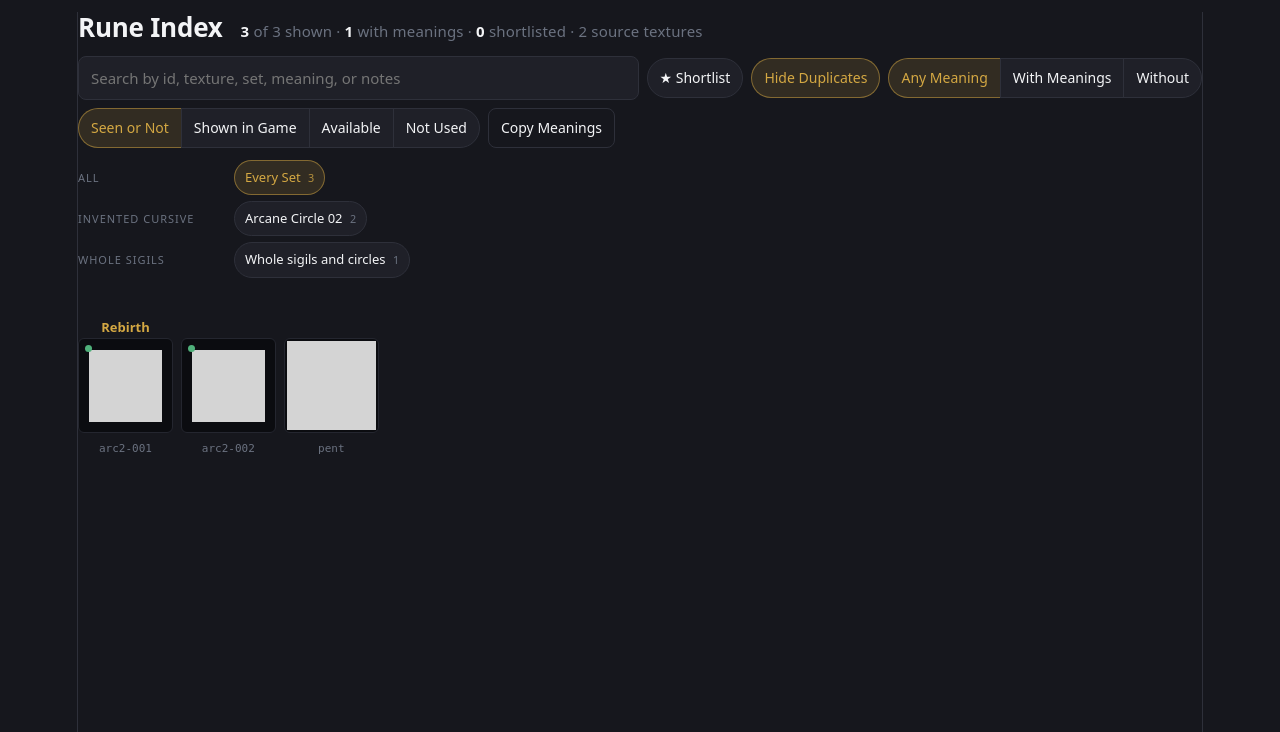
Test: RuneIndexPage › filters by meaning and by whether players can have seen it
expect the button with aria-label "Rune arc2-001, Rebirth" is shown: met, box [78, 319, 173, 462]
Click the button "Without": [1163, 78] box [1124, 58, 1202, 98]
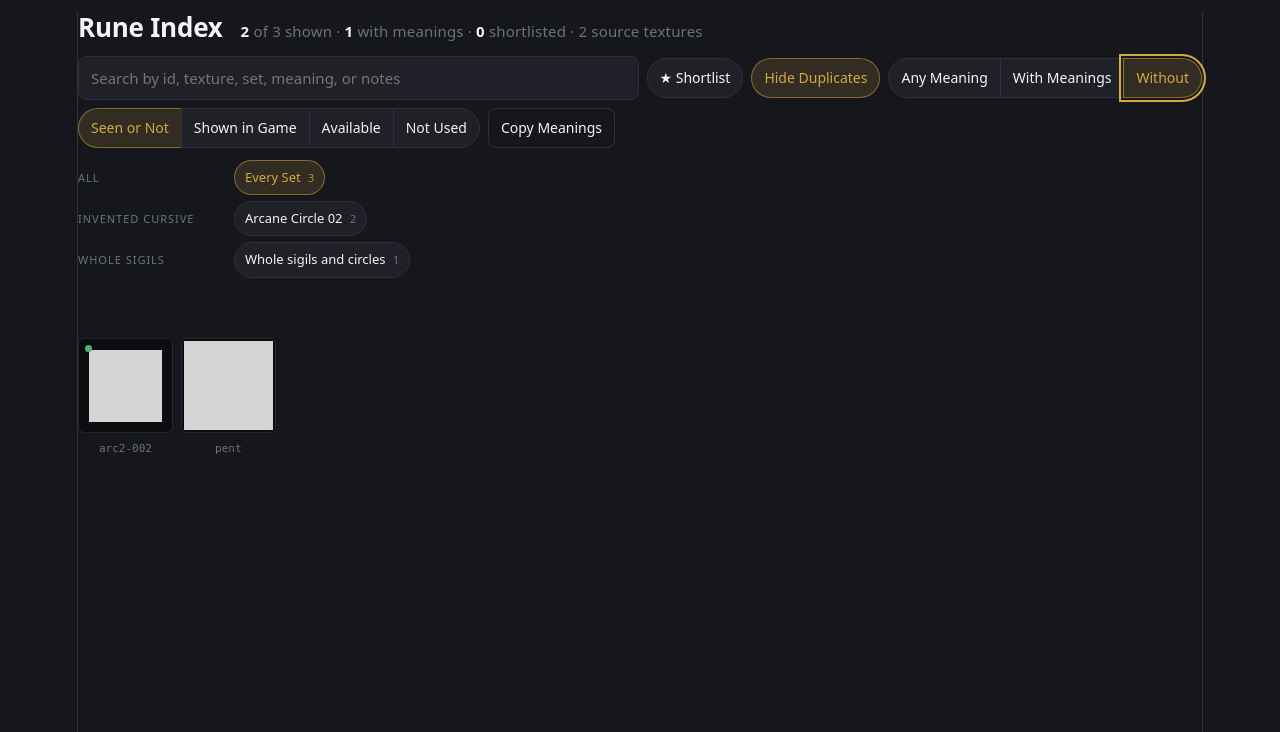
expect the button with aria-label "Rune arc2-002" is shown: met, box [78, 319, 173, 462]
Click the button "Any Meaning": [945, 78] box [888, 58, 1001, 98]
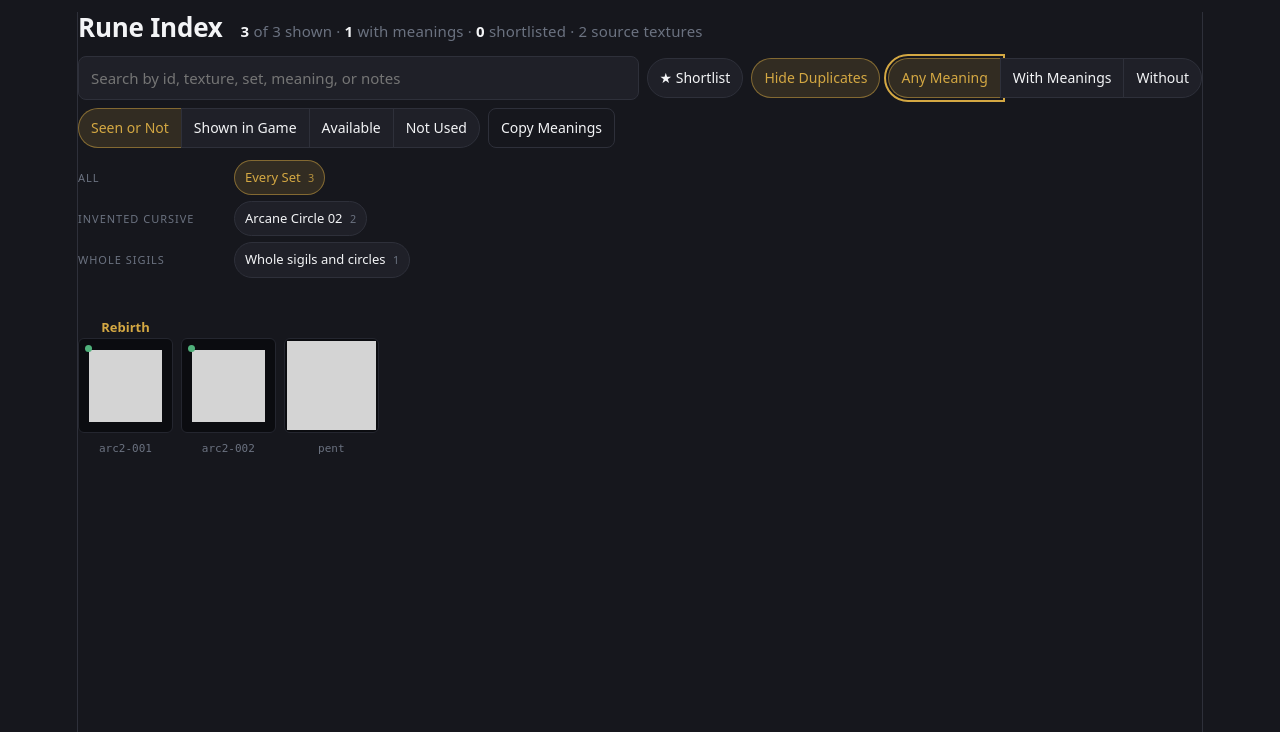
Click the button "Not Used": [436, 128] box [393, 108, 480, 148]
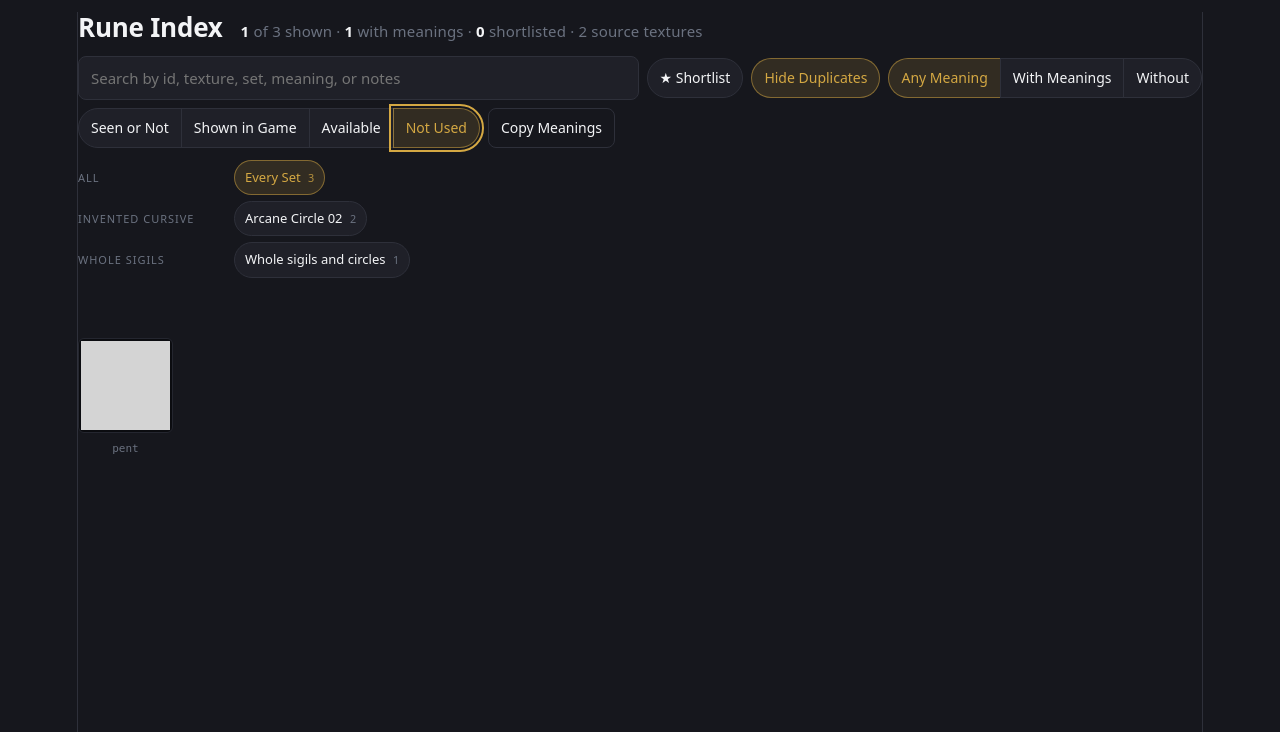
In the search field: [358, 78] box [78, 56, 638, 100], type "rebirth"
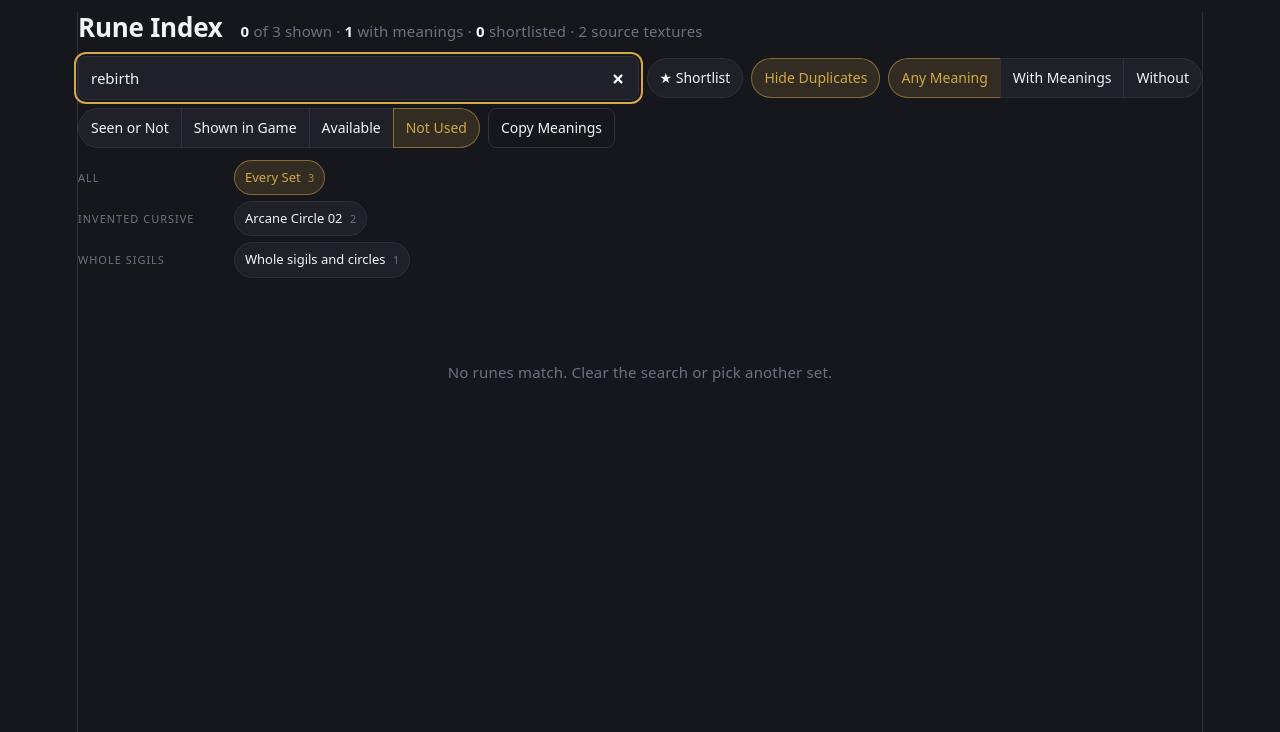
expect the text "No runes match. Clear the search or pick another set." is shown: met, box [448, 362, 832, 382]
